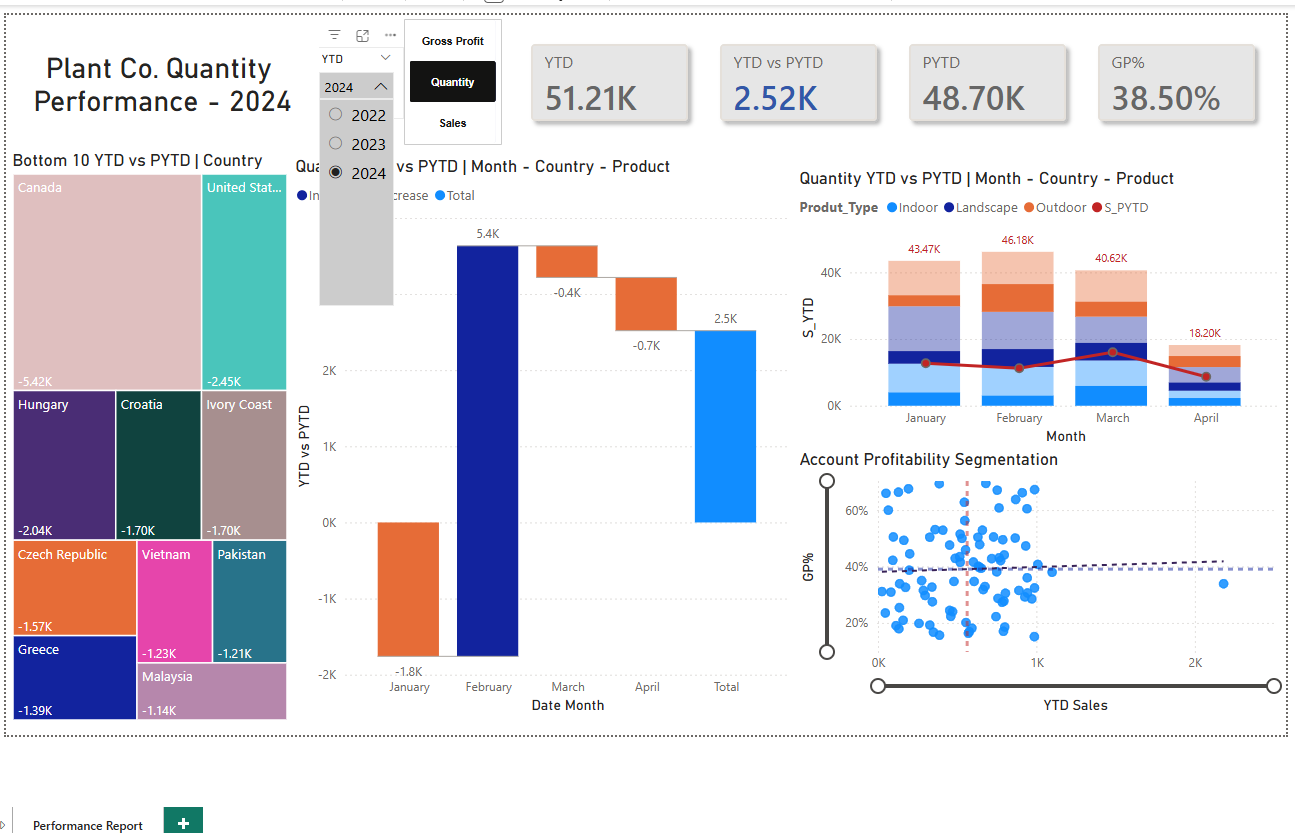

Layout of this report page (visuals, bound fields, positions):
{"tool":"powerbi","page":{"name":"Performance Report","canvas":[1280,720],"ordinal":0},"visuals":[{"type":"cardVisual","fields":{"Data":["_Measure.S_YTD","_Measure.YTD vs PYTD","_Measure.S_PYTD","_Measure.GP%"]},"box":[496.3,0,783.7,134.7],"z":0},{"type":"advancedSlicerVisual","fields":{"Values":["Slicer_values.Values"]},"box":[397.7,4.2,98.6,126.2],"z":1000},{"type":"slicer","fields":{"Values":["Dim_Date.Date.Variation.Date Hierarchy.Year"]},"box":[303.3,31.8,94.4,72.1],"z":2000},{"type":"treemap","title":"Bottom 10 YTD vs PYTD | Country","fields":{"Values":["_Measure.YTD vs PYTD"],"Group":["Dim_Account.country"]},"box":[1.9,135,283.9,575.3],"z":3000},{"type":"waterfallChart","fields":{"Y":["_Measure.YTD vs PYTD"],"Category":["Dim_Date.Date.Variation.Date Hierarchy.Month","Dim_Account.country","Dim_Product.Produt_Type","Dim_Product.Product_Name"]},"box":[285.3,141,503.7,562.1],"z":4000},{"type":"lineStackedColumnComboChart","fields":{"Y":["_Measure.S_YTD"],"Y2":["_Measure.S_PYTD"],"Category":["Dim_Date.Date.Variation.Date Hierarchy.Quarter","Dim_Date.Date.Variation.Date Hierarchy.Month"],"Series":["Dim_Product.Produt_Type"]},"box":[789,152.7,491,281],"z":5000},{"type":"scatterChart","title":"Account Profitability Segmentation","fields":{"Y":["_Measure.GP%"],"X":["_Measure.S_YTD"],"Category":["Dim_Account.Account_id"]},"box":[789,434,491,269],"z":5001},{"type":"card","fields":{"Values":["_Measure._Report title"]},"box":[0,4.2,312.8,126.2],"z":5002}]}

Visuals, with their boxes in screenshot pixels (x1, y1, x2, y2):
cardVisual - _Measure.S_YTD x _Measure.YTD vs PYTD: bbox=(517, 0, 1294, 92)
advancedSlicerVisual - Slicer_values.Values: bbox=(415, 0, 517, 88)
slicer - Dim_Date.Date.Variation.Date Hierarchy.Year: bbox=(317, 0, 415, 60)
"Bottom 10 YTD vs PYTD | Country" treemap: bbox=(5, 92, 299, 688)
waterfallChart - _Measure.YTD vs PYTD x Dim_Date.Date.Variation.Date Hierarchy.Month: bbox=(298, 99, 820, 680)
lineStackedColumnComboChart - _Measure.S_YTD x _Measure.S_PYTD: bbox=(820, 111, 1294, 401)
"Account Profitability Segmentation" scatterChart: bbox=(820, 402, 1294, 680)
card - _Measure._Report title: bbox=(3, 0, 327, 88)
